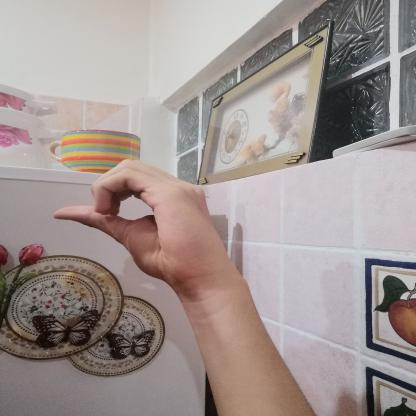WAW: (41, 148, 236, 294)
